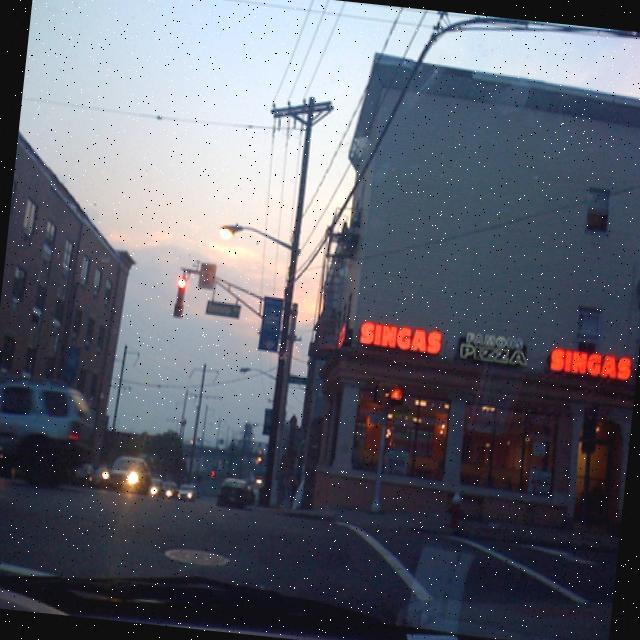fire_hydrant: (449, 492, 461, 520)
